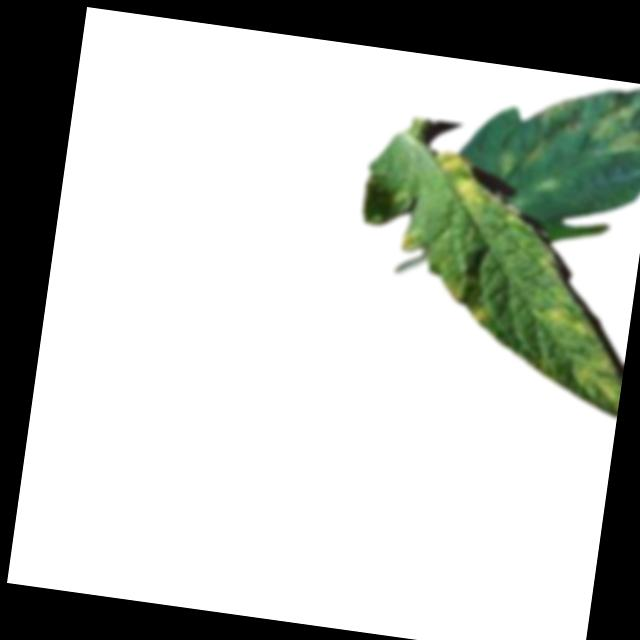Leaf_Mold: (584, 79, 640, 160), (427, 147, 489, 208), (536, 302, 602, 340), (396, 228, 420, 255), (469, 305, 493, 327)
